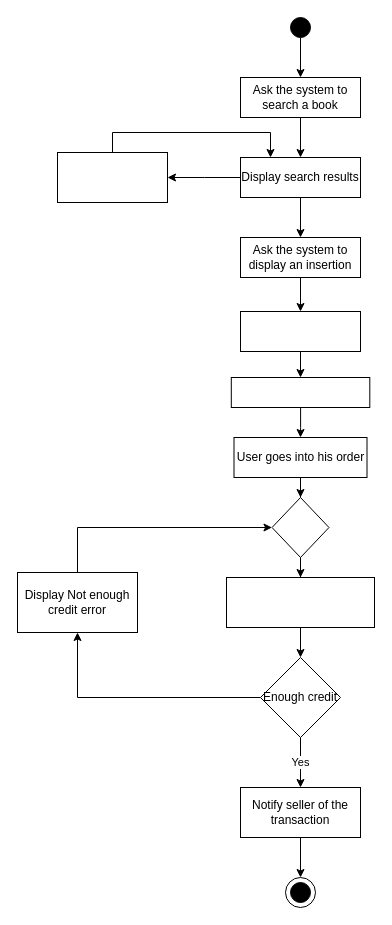
Some shapes in this 392 by 925 pixel diagram are drawn without their labels. Each missing label, with the centre of its shape:
An order is created and the seller is notified: point (300, 392)
Filter Search Result: point (112, 177)
User buys item: point (300, 331)
User pays his order: point (300, 602)
